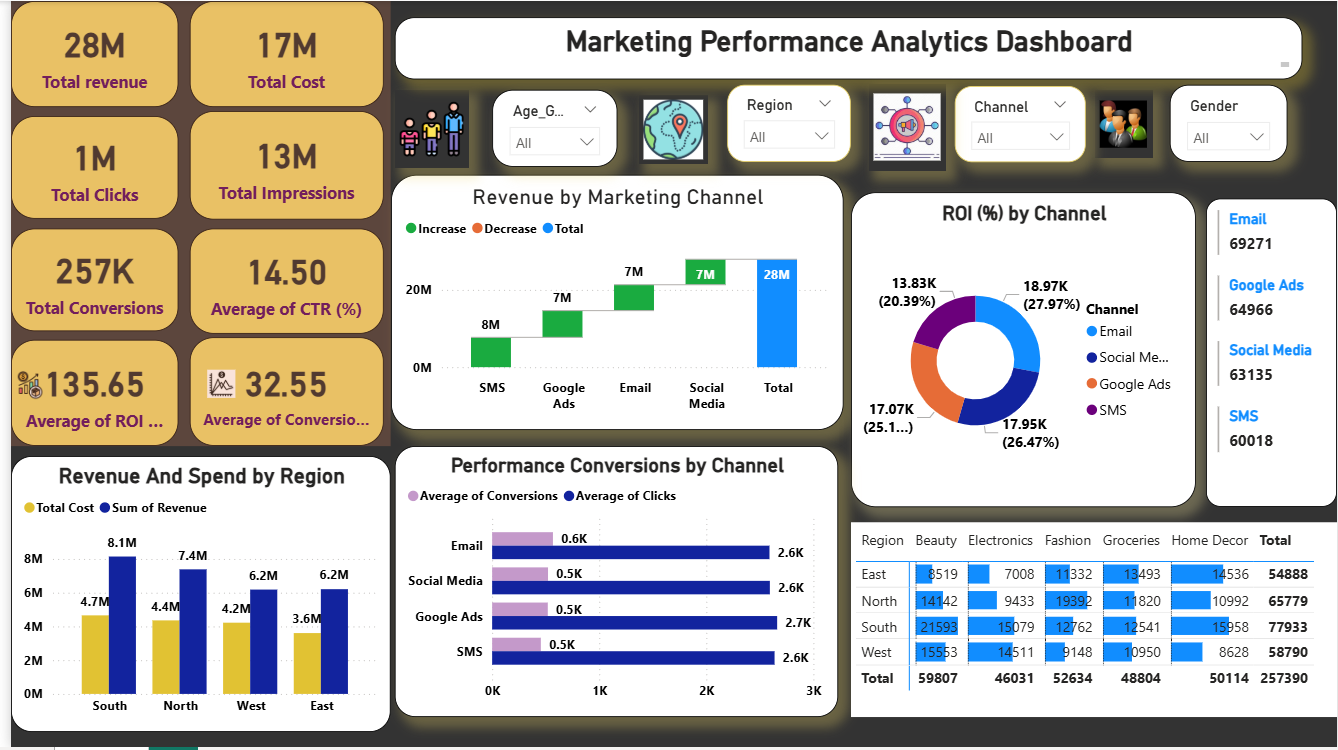

Layout of this report page (visuals, bound fields, positions):
{"tool":"powerbi","page":{"name":"Page 1","canvas":[1280,720],"ordinal":0},"visuals":[{"type":"card","fields":{"Values":["Sheet1.Total Conversions"]},"box":[0,340.4,160,107],"z":0},{"type":"card","fields":{"Values":["Avg(Sheet1.CTR (%))"]},"box":[173.4,225.9,194.1,106.6],"z":1000},{"type":"card","fields":{"Values":["Avg(Sheet1.ROI (%))"]},"box":[173.4,0,194.1,106.6],"z":2000},{"type":"card","fields":{"Values":["Avg(Sheet1.Conversion Rate (%))"]},"box":[175,340.4,192.5,106.6],"z":3000},{"type":"textbox","title":"Marketing Performance Analytics Dashboard","box":[370.6,15.9,782.6,60.4],"z":4000},{"type":"waterfallChart","title":"Revenue by Channel","fields":{"Category":["Sheet1.Channel"],"Y":["Sum(Sheet1.Revenue)"]},"box":[366.8,167.7,436.7,244.9],"z":5000},{"type":"donutChart","title":" ROI (%) by Channel","fields":{"Category":["Sheet1.Channel"],"Y":["Sum(Sheet1.ROI (%))"]},"box":[810.7,184.6,324.5,304],"z":6000},{"type":"clusteredBarChart","title":" Conversions and Clicks by Channel","fields":{"Category":["Sheet1.Channel"],"Y":["Avg(Sheet1.Conversions)","Avg(Sheet1.Clicks)"]},"box":[370.4,429.5,428.3,261.8],"z":7000},{"type":"card","fields":{"Values":["Sheet1.TOTAL REVENUE"]},"box":[0,0,164,104],"z":8000},{"type":"card","fields":{"Values":["Sheet1.Total Cost"]},"box":[1.6,109.8,160.7,106.6],"z":9000},{"type":"card","fields":{"Values":["Sheet1.Total Clicks"]},"box":[0,225.9,160.7,106.6],"z":10000},{"type":"card","fields":{"Values":["Sheet1.Total Impressions"]},"box":[175,112.9,192.5,106.6],"z":11000},{"type":"slicer","fields":{"Values":["Sheet1.Channel"]},"box":[910.9,82,126.7,73.6],"z":12000},{"type":"slicer","fields":{"Values":["Sheet1.Gender"]},"box":[1118.4,80.8,113.4,74.8],"z":13000},{"type":"slicer","fields":{"Values":["Sheet1.Age_Group"]},"box":[464.5,85.7,120.6,74.8],"z":14000},{"type":"slicer","fields":{"Values":["Sheet1.Region"]},"box":[691.3,80.8,119.4,74.8],"z":15000},{"type":"multiRowCard","fields":{"Values":["Sum(Sheet1.Conversions)","Sheet1.Channel"]},"box":[1153.4,190.6,126.7,298],"z":16000},{"type":"pivotTable","fields":{"Rows":["Sheet1.Region"],"Columns":["Sheet1.Product_Category"],"Values":["Sum(Sheet1.Conversions)"]},"box":[810.7,503.1,469.3,188.2],"z":17000},{"type":"image","box":[8,359.5,6.4,12.7],"z":18000},{"type":"image","box":[1045.7,85.7,55.7,65.7],"z":19000},{"type":"image","box":[370,85.7,71.4,75.7],"z":20000},{"type":"image","box":[605.7,90,67.1,67.1],"z":21000},{"type":"image","box":[827.1,80,74.3,84.3],"z":22000},{"type":"textbox","box":[0,0,367.4,447],"z":23000},{"type":"clusteredColumnChart","title":"Revenue And Spend by Region","fields":{"Category":["Sheet1.Region"],"Y":["Sheet1.Total Cost","Sum(Sheet1.Revenue)"]},"box":[1.6,459.7,365.8,240.2],"z":24000},{"type":"image","box":[1175.5,19.1,60.4,57.3],"z":25000}]}

Visuals, with their boxes in screenshot pixels (x1, y1, x2, y2), scaled from the page's 1280x720 canvas onto the 1338x750 screenshot:
card - Sheet1.Total Conversions: Rect(0, 355, 167, 466)
card - Avg(Sheet1.CTR (%)): Rect(181, 235, 384, 346)
card - Avg(Sheet1.ROI (%)): Rect(181, 0, 384, 111)
card - Avg(Sheet1.Conversion Rate (%)): Rect(183, 355, 384, 466)
"Marketing Performance Analytics Dashboard" textbox: Rect(387, 17, 1205, 79)
"Revenue by Channel" waterfallChart: Rect(383, 175, 840, 430)
" ROI (%) by Channel" donutChart: Rect(847, 192, 1187, 509)
" Conversions and Clicks by Channel" clusteredBarChart: Rect(387, 447, 835, 720)
card - Sheet1.TOTAL REVENUE: Rect(0, 0, 171, 108)
card - Sheet1.Total Cost: Rect(2, 114, 170, 225)
card - Sheet1.Total Clicks: Rect(0, 235, 168, 346)
card - Sheet1.Total Impressions: Rect(183, 118, 384, 229)
slicer - Sheet1.Channel: Rect(952, 85, 1085, 162)
slicer - Sheet1.Gender: Rect(1169, 84, 1288, 162)
slicer - Sheet1.Age_Group: Rect(486, 89, 612, 167)
slicer - Sheet1.Region: Rect(723, 84, 847, 162)
multiRowCard - Sum(Sheet1.Conversions) x Sheet1.Channel: Rect(1206, 199, 1337, 509)
pivotTable - Sheet1.Region x Sheet1.Product_Category: Rect(847, 524, 1337, 720)
image: Rect(8, 374, 15, 388)
image: Rect(1093, 89, 1151, 158)
image: Rect(387, 89, 461, 168)
image: Rect(633, 94, 703, 164)
image: Rect(865, 83, 942, 171)
textbox: Rect(0, 0, 384, 466)
"Revenue And Spend by Region" clusteredColumnChart: Rect(2, 479, 384, 729)
image: Rect(1229, 20, 1292, 80)
